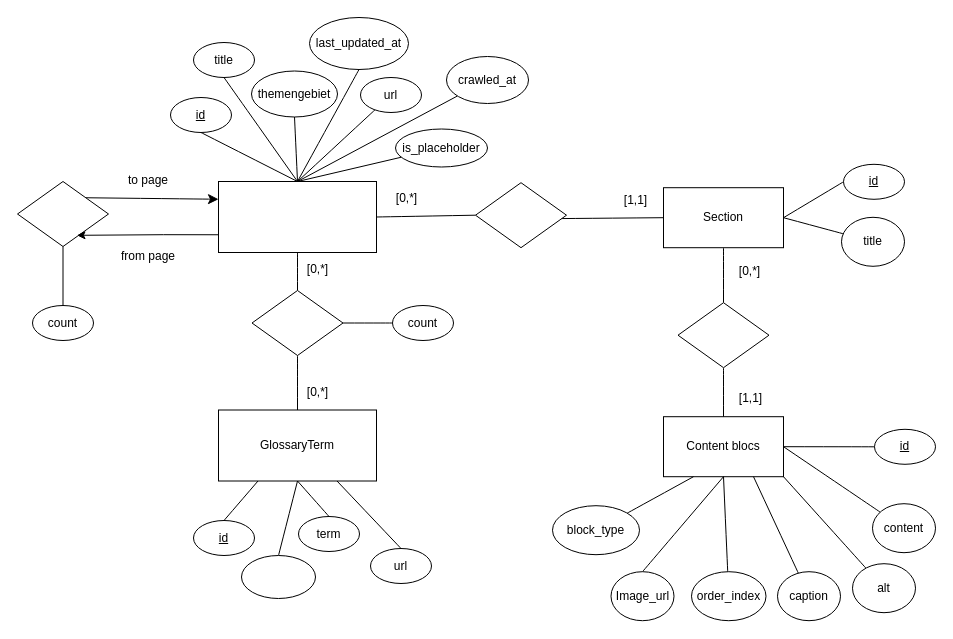
The diagram is 953 pixels wide and 639 high, and some of its shapes have lost their labels. Here are the shapes that lost their labels. From the top down, the box of each, then its label:
(16, 180, 108, 246): references
(218, 180, 376, 252): Page
(474, 182, 566, 248): has
(251, 290, 343, 356): was found in
(677, 302, 769, 368): consists of
(240, 554, 316, 598): description
